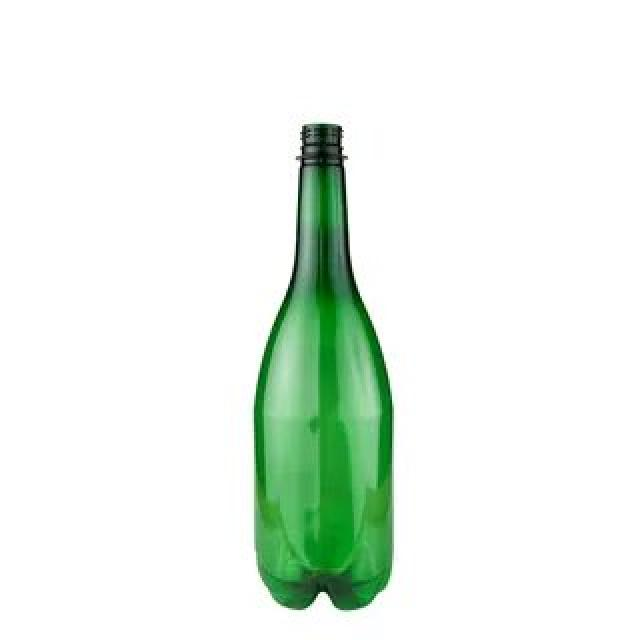green: (252, 125, 395, 612)
